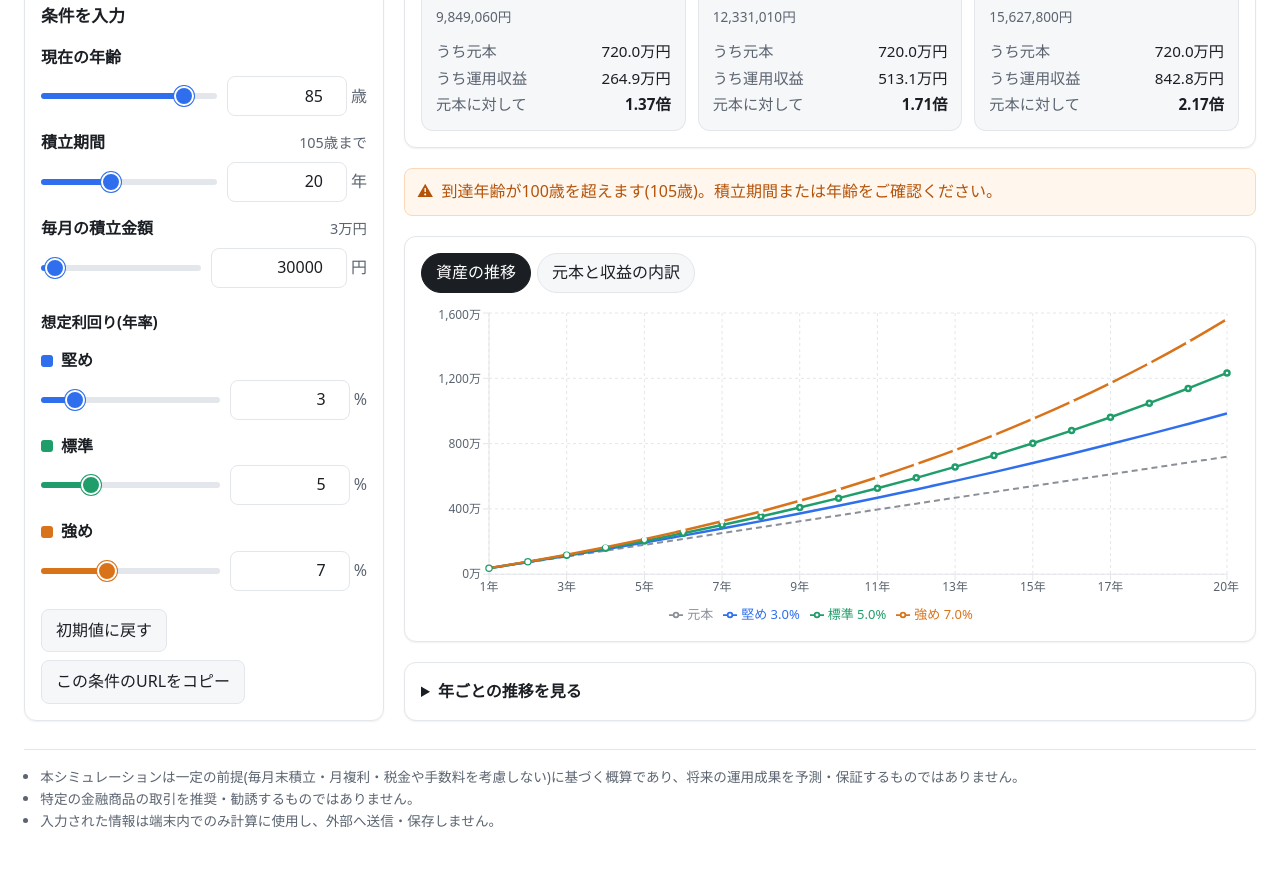
App (受け入れ基準 要件 §8) › §8-4: 利回り0%で壊れず、運用収益0・元本と同額
(page scrolled)
Replace the text in the number field labelled "堅め" with "0" at (290, 400), box [230,380,350,420]
Then press Enter
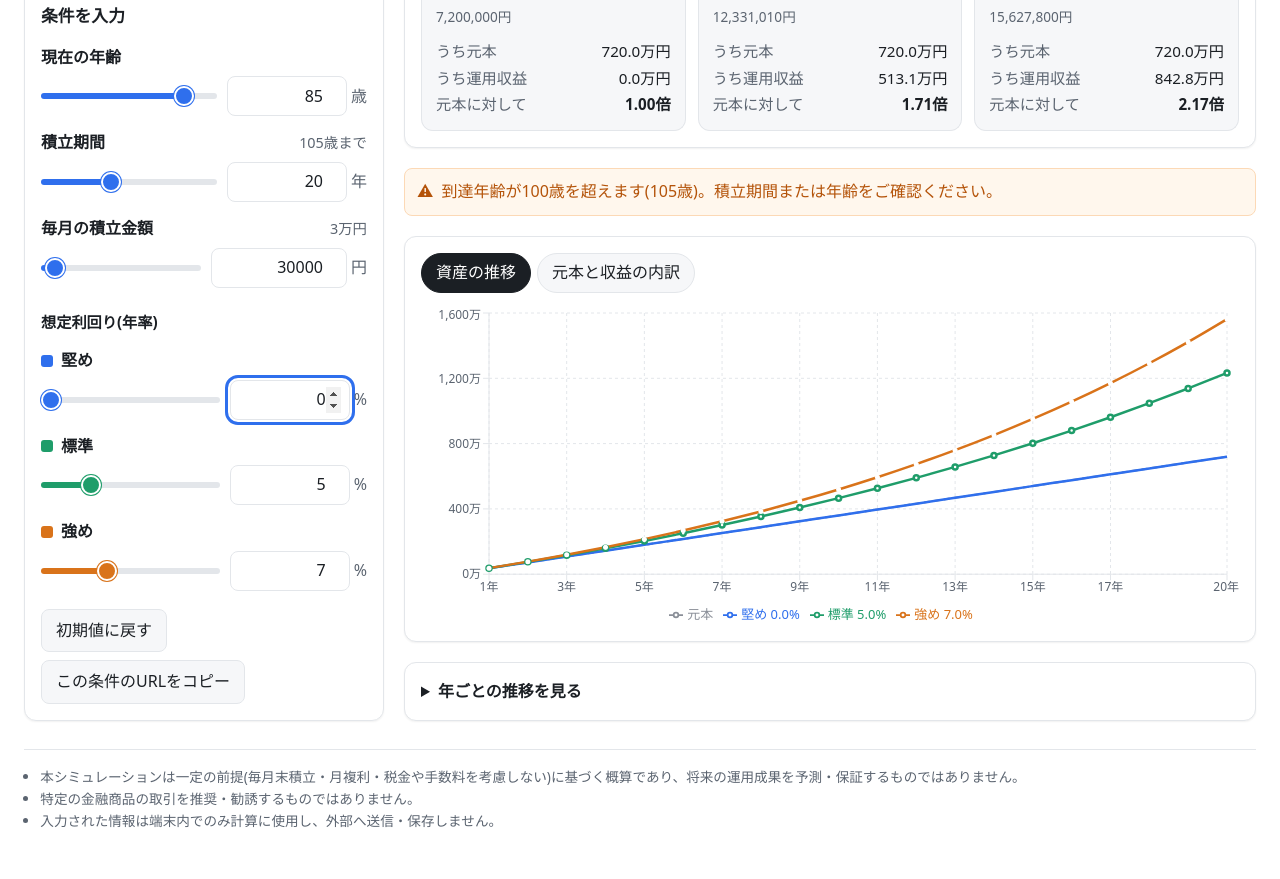
Check: the text "0.0万円" is shown, box [619,68,671,88]
Check: the text "1.00倍" is shown, box [625,94,671,114]
